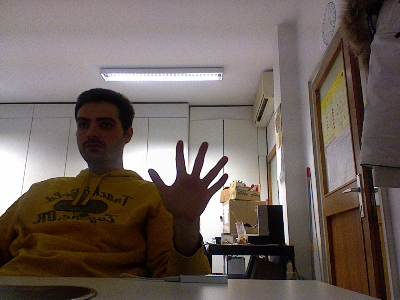布: (147, 139, 228, 219)
